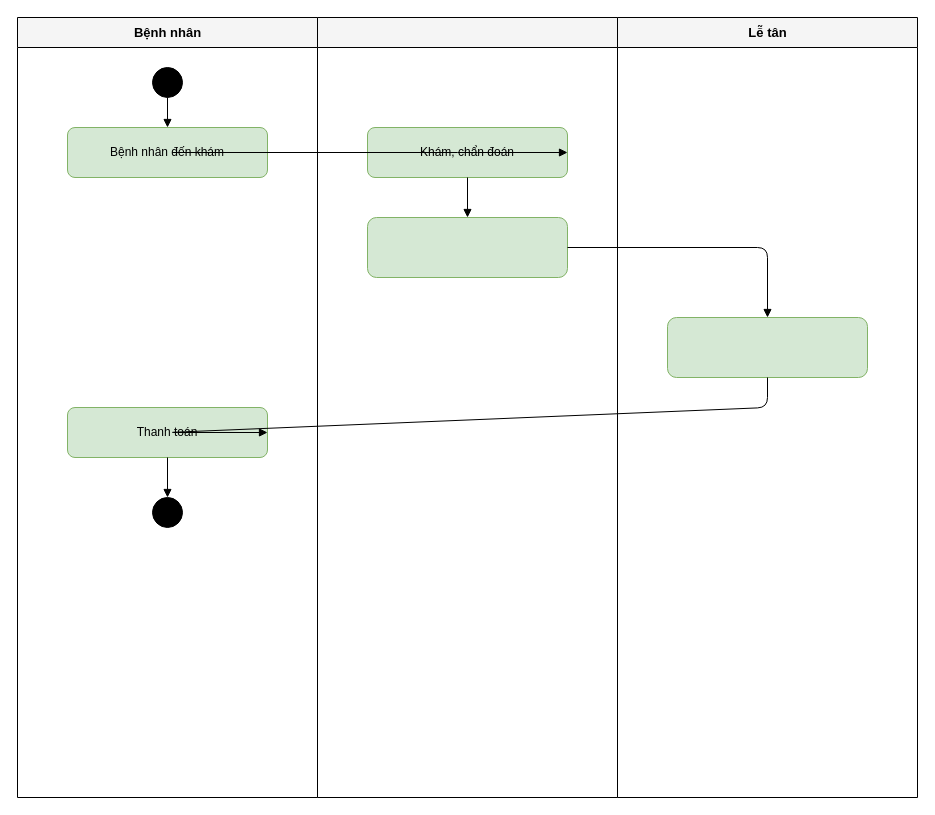
This 935x815 diagram has some shape labels left out. The shapes that lost their labels are listed below. From the top down, each one's box as (x1, y1, x2, y2) in pixels, then its label:
(366, 216, 568, 278): Ghi hồ sơ điều trị (MedicalRecord)
(666, 316, 868, 378): Tạo hóa đơn (Invoice)
(316, 16, 618, 798): Nha sĩ
